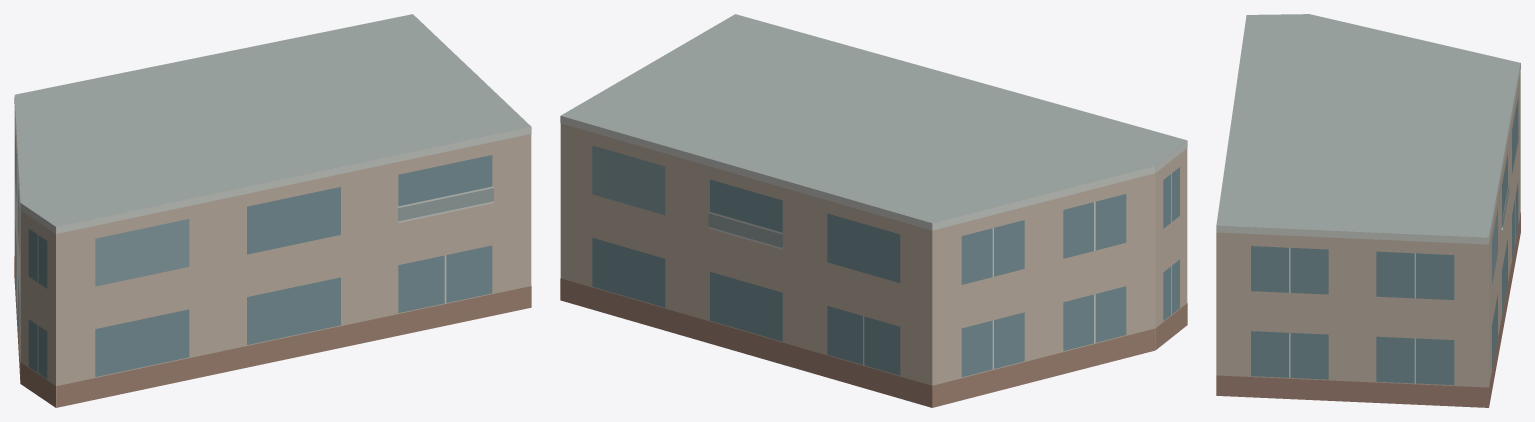
File: survey-upis-32679270.glb
3 renders of one model, left to right at view 1: azimuth 30°, elevation 25°; view 2: azimuth 150°, elevation 25°; view 3: azimuth 270°, elevation 25°, orthographic. The views are drawn at different scales.
Visible parts, largest first — view 1: survey-upis-32679270.tmp; view 2: survey-upis-32679270.tmp; view 3: survey-upis-32679270.tmp.
Boxes of the visible parts, x1,y1,x2,y2 form: survey-upis-32679270.tmp: (14,14,531,407); survey-upis-32679270.tmp: (560,14,1187,407); survey-upis-32679270.tmp: (1216,14,1520,407).
Bounding box in the file's own units: 17.22 × 6.1 × 9.9.
